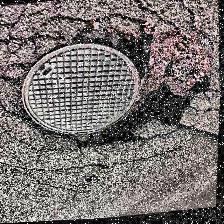pothole: (88, 27, 216, 150)
